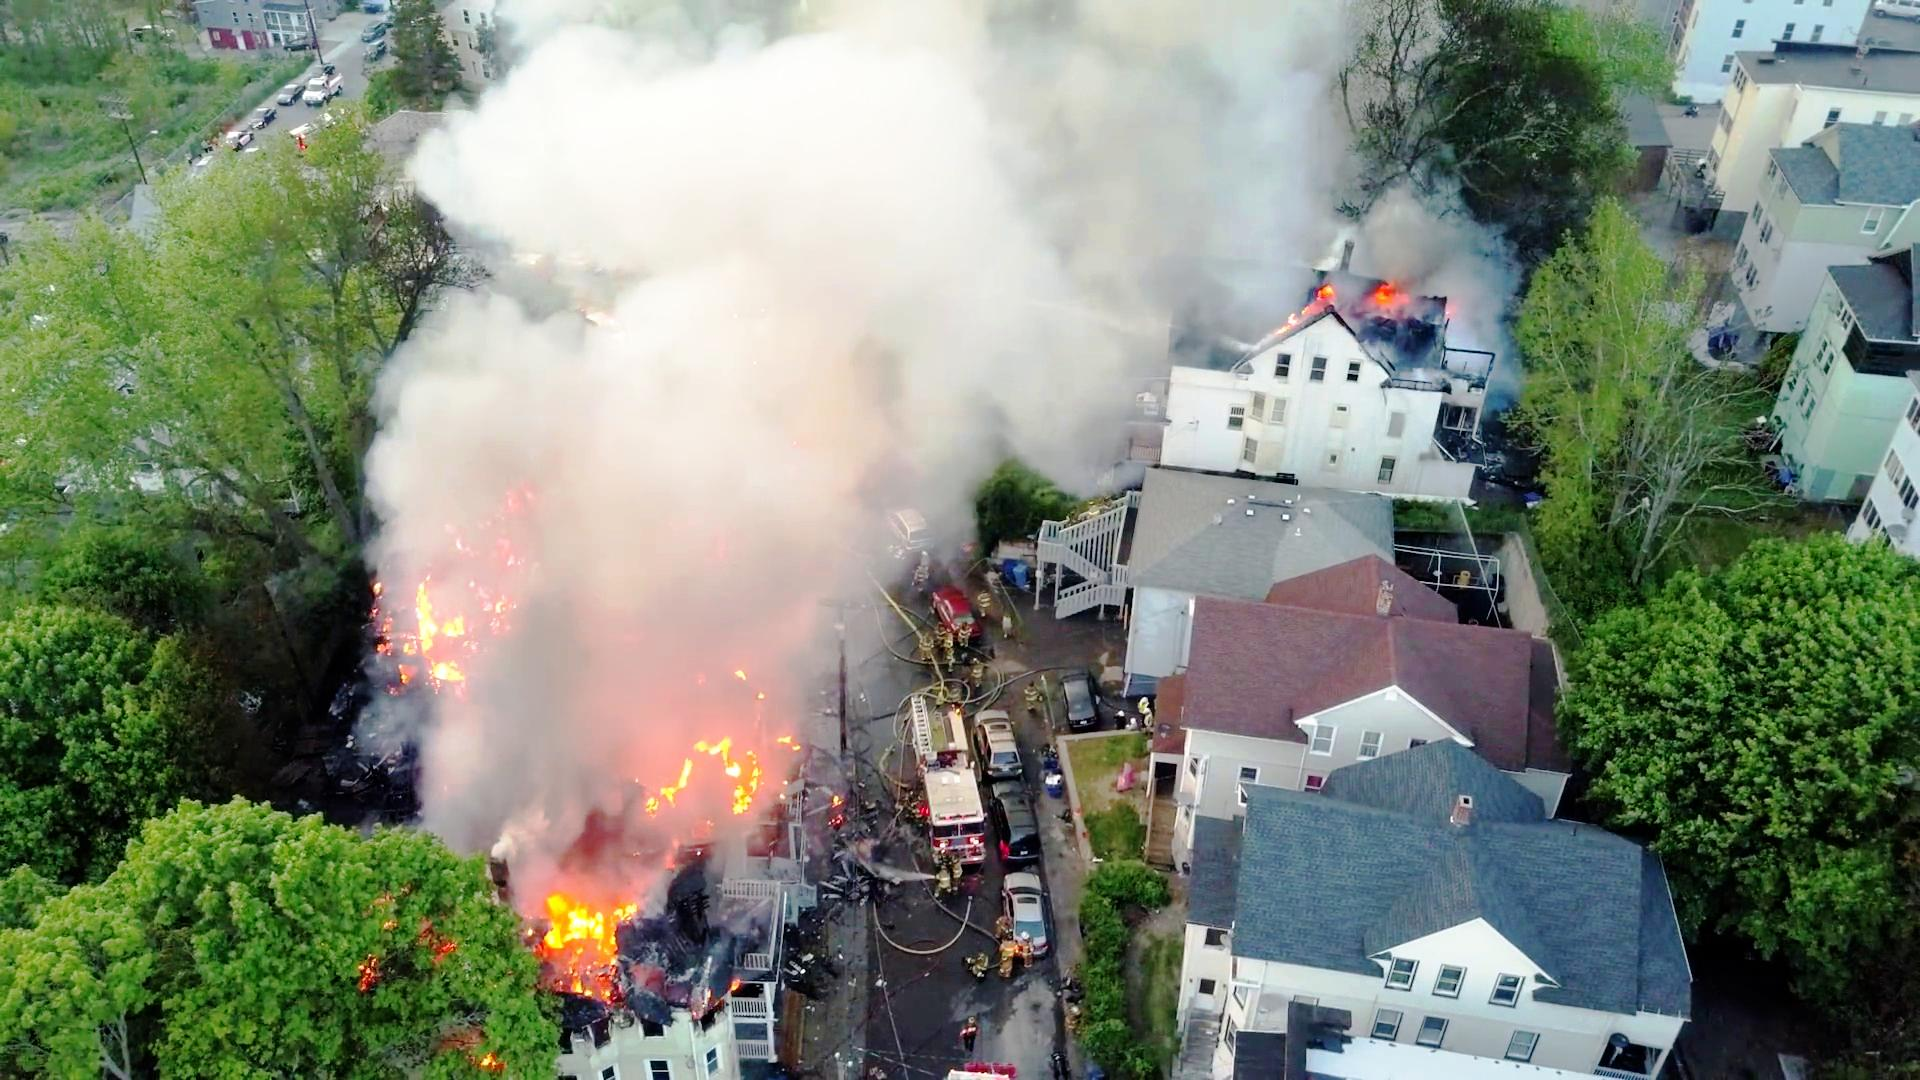fire: (655, 708, 767, 811), (535, 884, 625, 968), (396, 571, 465, 674)
smoke: (728, 94, 835, 286)
